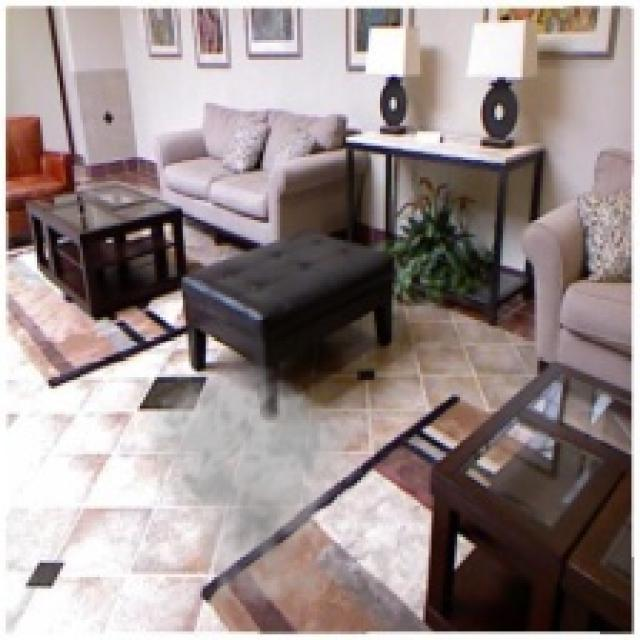Smoke: (140, 363, 369, 623)
